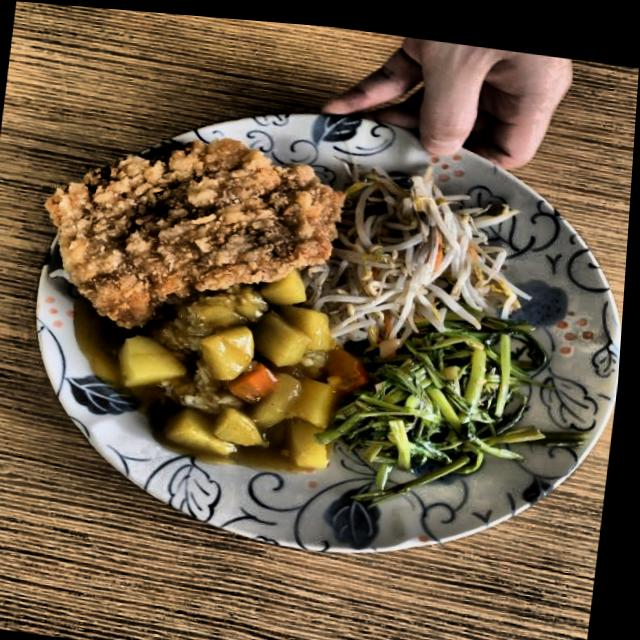Food: (48, 118, 340, 321), (164, 290, 338, 452), (341, 165, 512, 313), (368, 324, 538, 469)
